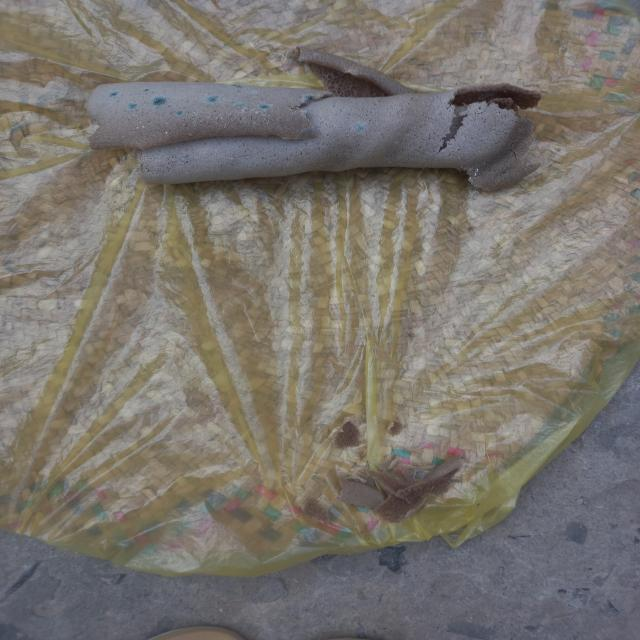injera_mold: (352, 120, 368, 135), (151, 95, 170, 106), (127, 100, 139, 113), (302, 94, 316, 105), (256, 101, 271, 111), (106, 91, 122, 99), (171, 109, 187, 117), (206, 95, 218, 105), (472, 167, 480, 180), (302, 126, 314, 134), (232, 102, 245, 108), (345, 69, 357, 75), (230, 84, 245, 88), (218, 123, 230, 128), (191, 119, 198, 126), (301, 111, 308, 118), (312, 51, 318, 57), (251, 89, 258, 94), (242, 108, 249, 112), (143, 88, 150, 92), (253, 121, 256, 128), (164, 130, 169, 134), (254, 111, 259, 115), (124, 142, 128, 147), (188, 132, 192, 136), (138, 120, 142, 124), (242, 116, 246, 120), (142, 125, 145, 129), (122, 135, 125, 139), (265, 122, 269, 125), (193, 111, 196, 115), (261, 114, 266, 116), (136, 125, 139, 128), (469, 177, 472, 180), (220, 117, 224, 119), (207, 120, 209, 124), (289, 109, 293, 111), (263, 118, 267, 120), (232, 125, 234, 128), (238, 113, 240, 116), (182, 123, 185, 125), (459, 158, 460, 160), (461, 166, 462, 168)
